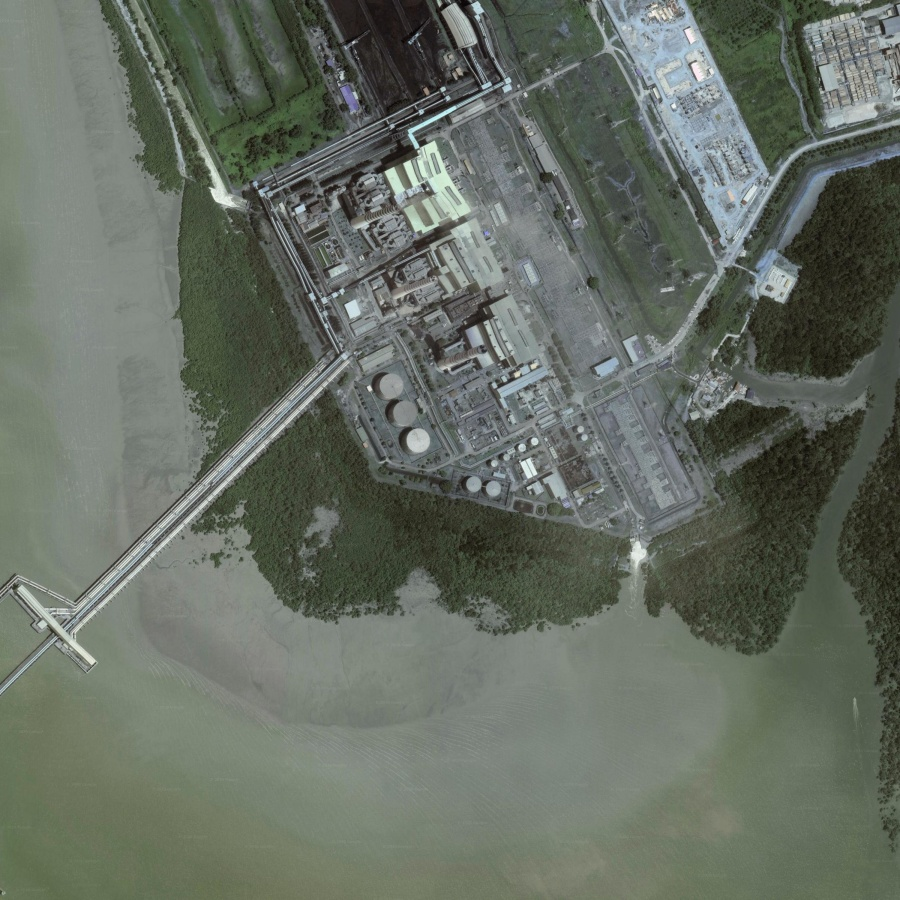PowerPlant: (275, 155, 640, 517)
